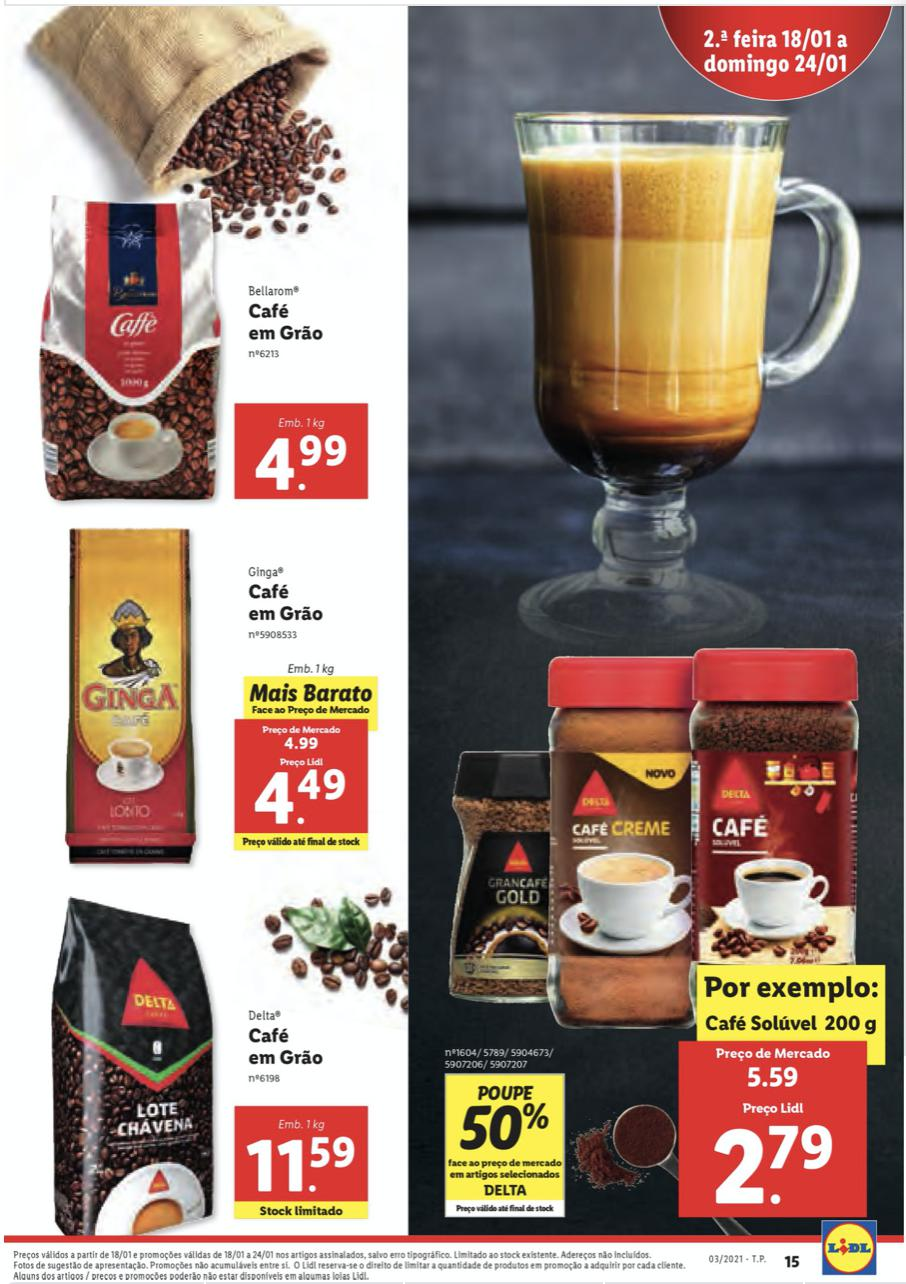name: (243, 1020, 330, 1073), (243, 300, 329, 351), (244, 578, 329, 627)
price: (711, 1120, 837, 1211), (243, 1130, 359, 1197), (252, 430, 351, 495), (252, 765, 351, 830)
product: (425, 617, 889, 1236), (25, 874, 402, 1241), (16, 166, 397, 516), (14, 533, 400, 866)
promotion: (457, 1100, 552, 1154)
